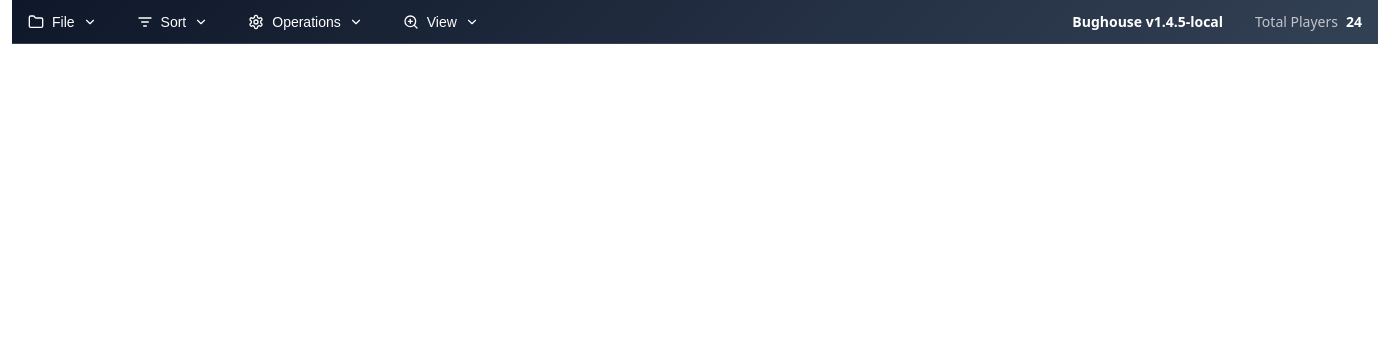
Test: MenuBar component › non-admin mode (default) › Menu open/close behavior › should close Operations menu after clicking an item
Click the button "Operations": click(306, 22) left=232, top=6, right=379, bottom=38
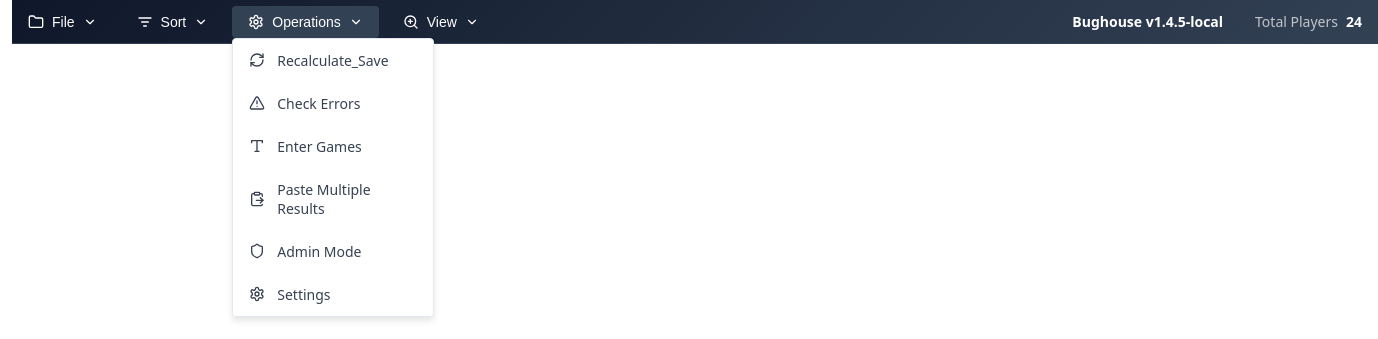
expect the text "Settings" is shown: met, box left=277, top=284, right=331, bottom=304
Click the menu item "Settings": click(333, 294) left=233, top=272, right=433, bottom=316
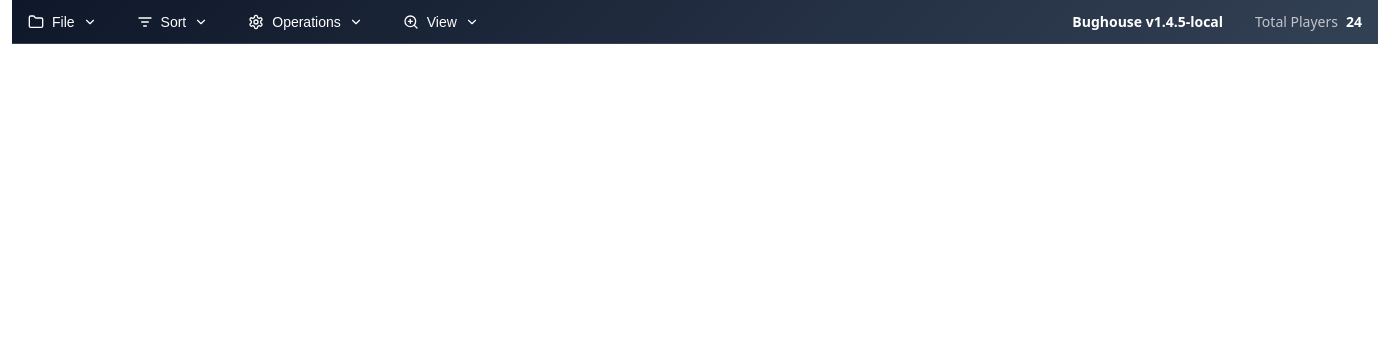
expect the menu item "Recalculate_Save" is gone: met
